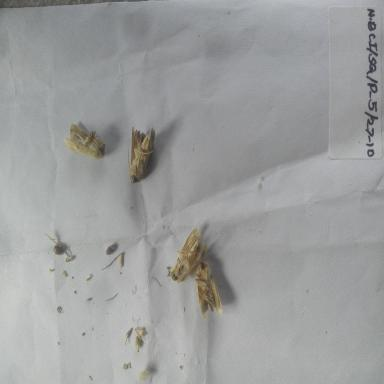abw: (168, 223, 212, 288), (61, 117, 110, 170), (192, 256, 226, 326), (122, 122, 158, 188)
